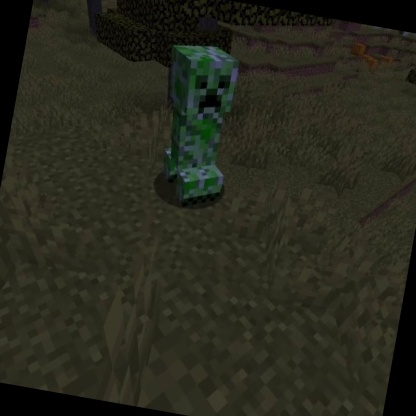creeper: (139, 35, 251, 219)
